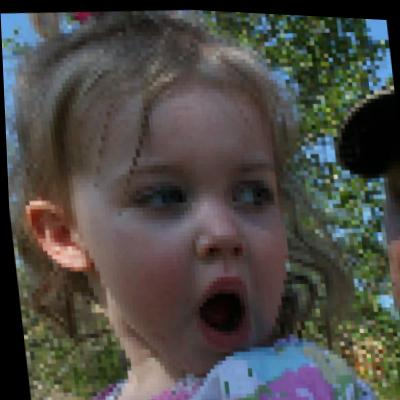surprise: (48, 30, 304, 369)
